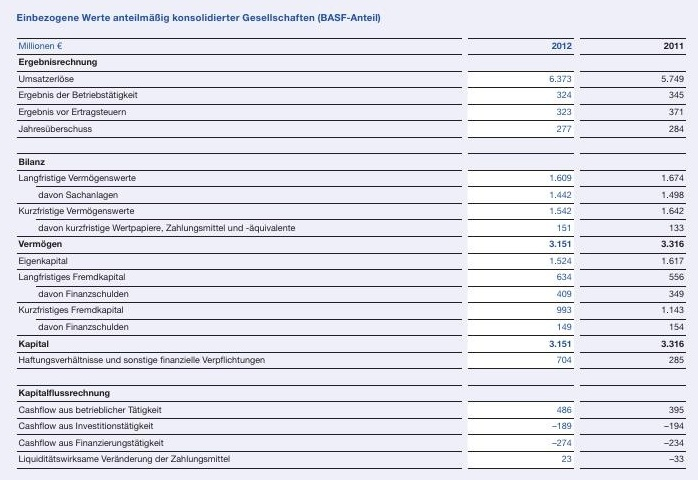table: (0, 0, 698, 480)
